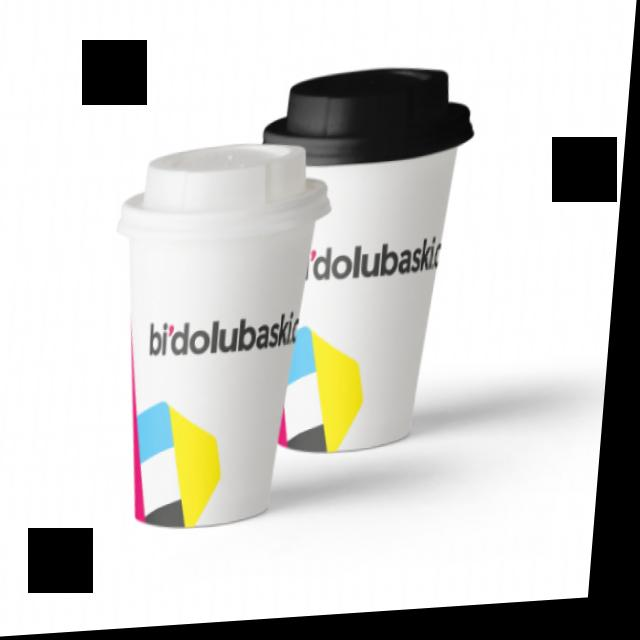karton-bardak: (105, 133, 330, 575)
